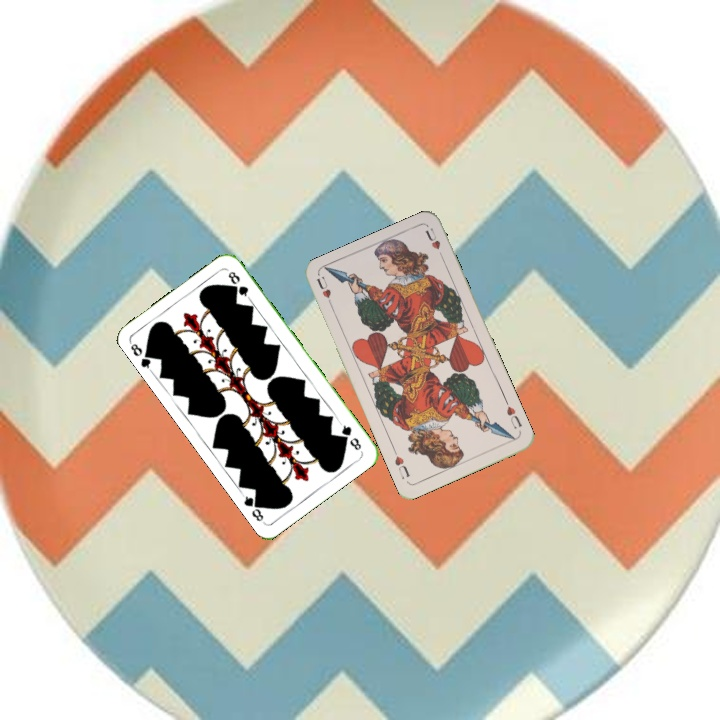G8: (126, 339, 157, 374), (336, 419, 364, 453)
HU: (312, 272, 336, 311), (501, 396, 524, 430)
